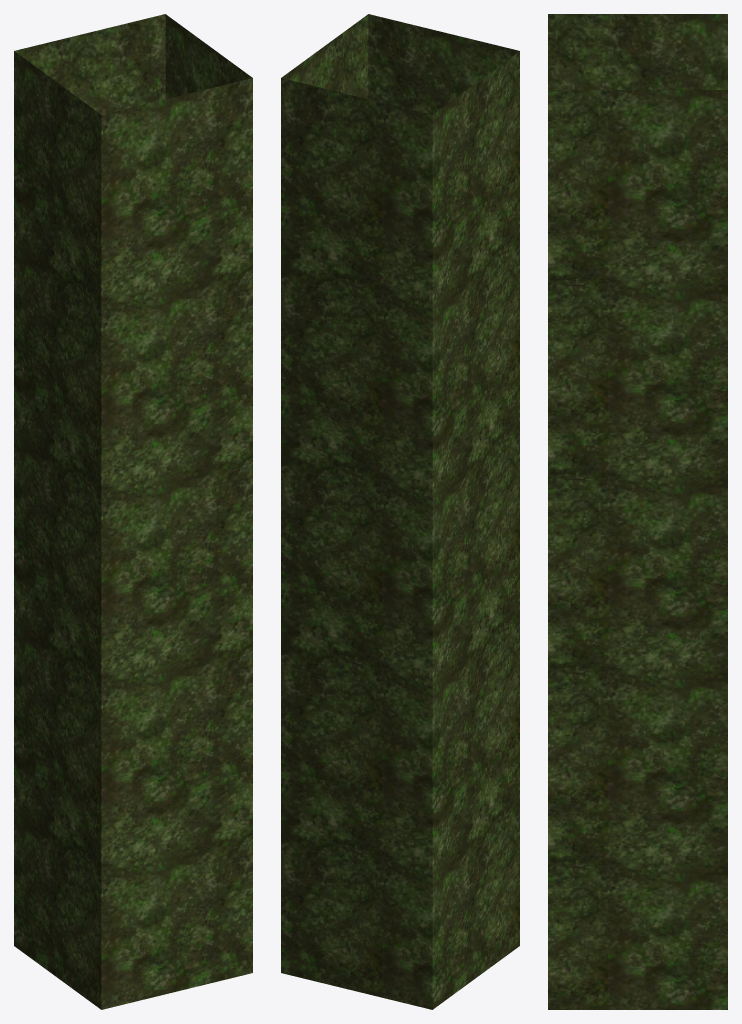
The model's file is OVERHILL_A_01_LINE404.fbx.
3 views of the same model, side by side, from view 1: azimuth 30°, elevation 25°; view 2: azimuth 150°, elevation 25°; view 3: azimuth 270°, elevation 25° (orthographic). The views are drawn at different scales.
Visible parts, largest first — view 1: OVERHILL_A_01_LINE404; view 2: OVERHILL_A_01_LINE404; view 3: OVERHILL_A_01_LINE404.
Boxes of the visible parts, x1,y1,x2,y2 form: OVERHILL_A_01_LINE404: [14, 14, 252, 1009]; OVERHILL_A_01_LINE404: [281, 14, 519, 1009]; OVERHILL_A_01_LINE404: [548, 14, 727, 1009].
Bounding box in the file's own units: 17889 × 101030 × 17889.
1 material, 1 textured.
